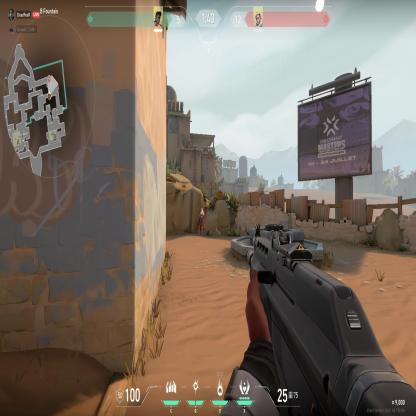enemy: (199, 206, 205, 236)
